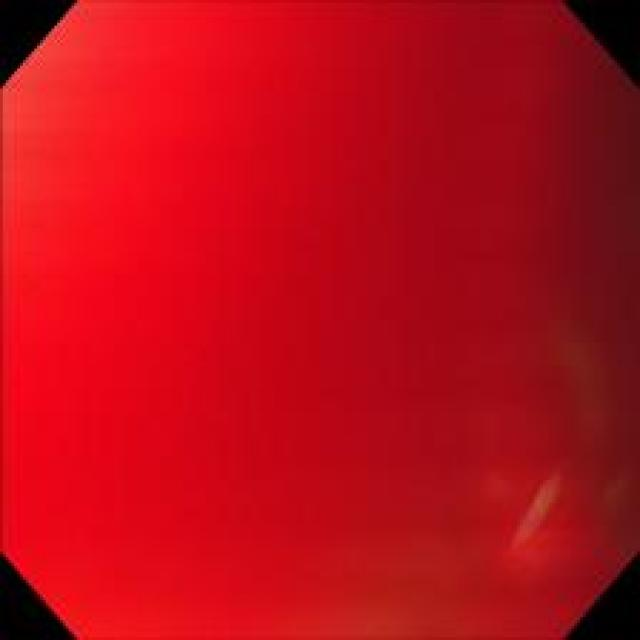color misalignment: (18, 18, 629, 628)
